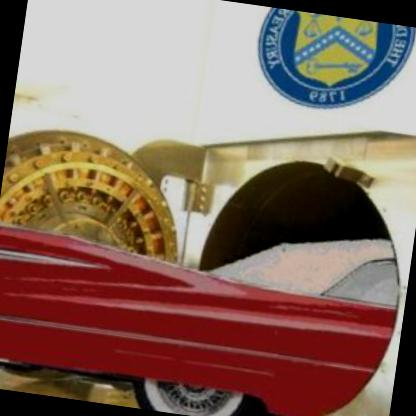car: (0, 190, 404, 415)
